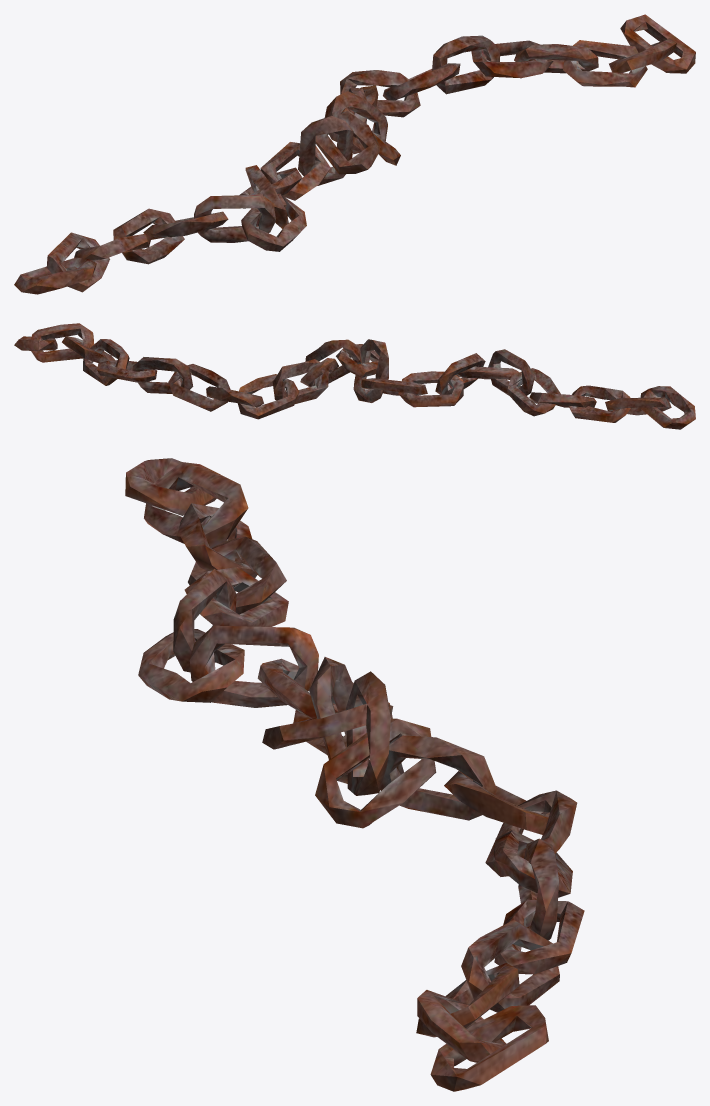
File: rusty_chain_01.glb
The picture shows the model from 3 angles, top to bottom: view 1: azimuth 30°, elevation 25°; view 2: azimuth 150°, elevation 25°; view 3: azimuth 270°, elevation 25°; orthographic projection. The views are drawn at different scales.
Parts seen in each view (by area): view 1: rusty_chain_01; view 2: rusty_chain_01; view 3: rusty_chain_01.
Boxes of the visible parts, x1=… form: rusty_chain_01: x1=14, y1=14, x2=695, y2=294; rusty_chain_01: x1=14, y1=323, x2=695, y2=429; rusty_chain_01: x1=125, y1=458, x2=584, y2=1091.
Size of what is drawn, in the model's own units: 0.5 by 0.0518 by 0.1654.
Materials: 1 (1 with a texture image).
